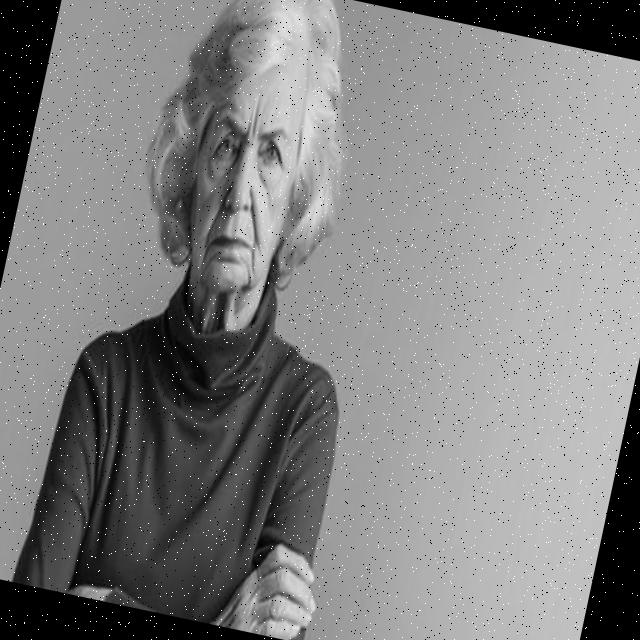Angry: (172, 43, 318, 303)
